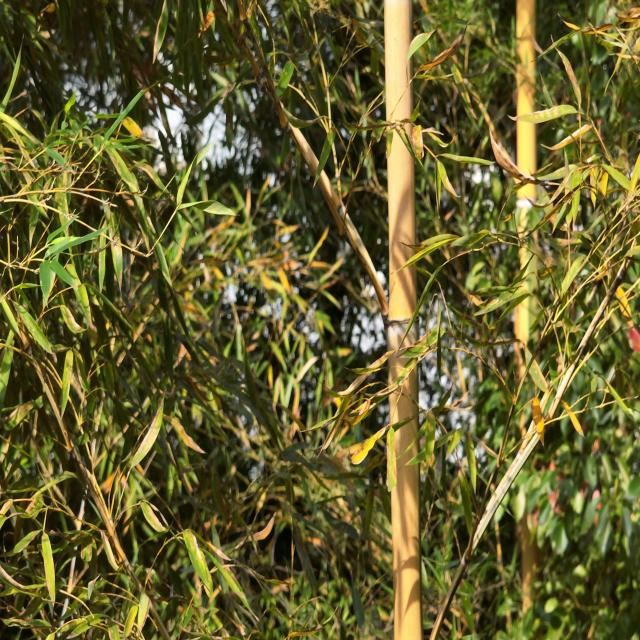Bamboo-shoots: (385, 0, 424, 640)
